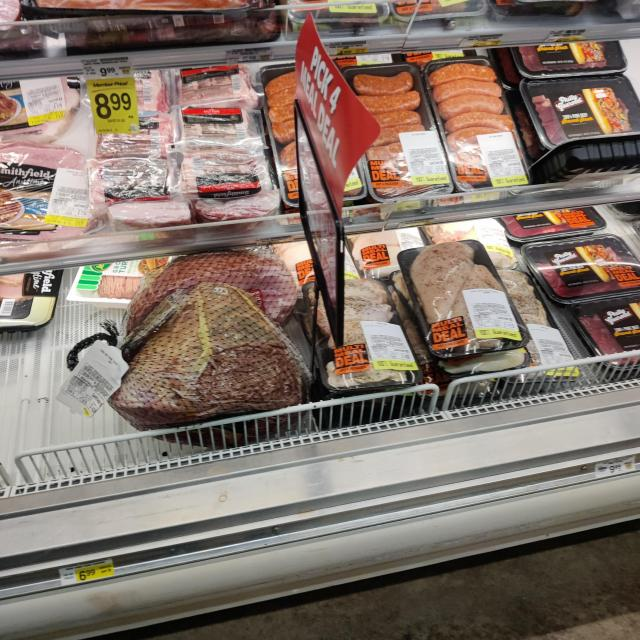Meat: (87, 285, 310, 447), (174, 65, 284, 216), (398, 239, 531, 359), (308, 278, 428, 398), (346, 67, 454, 198), (428, 55, 529, 189), (0, 142, 108, 249), (486, 267, 582, 379), (98, 115, 178, 224), (523, 234, 640, 304), (530, 74, 640, 146)
